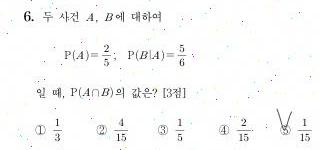choice: (275, 115, 292, 136)
not-choice: (33, 123, 48, 137), (94, 123, 108, 137), (156, 123, 170, 137), (218, 123, 231, 136)
